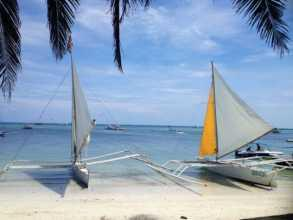fanchuan: (6, 52, 133, 186), (158, 57, 292, 183)
